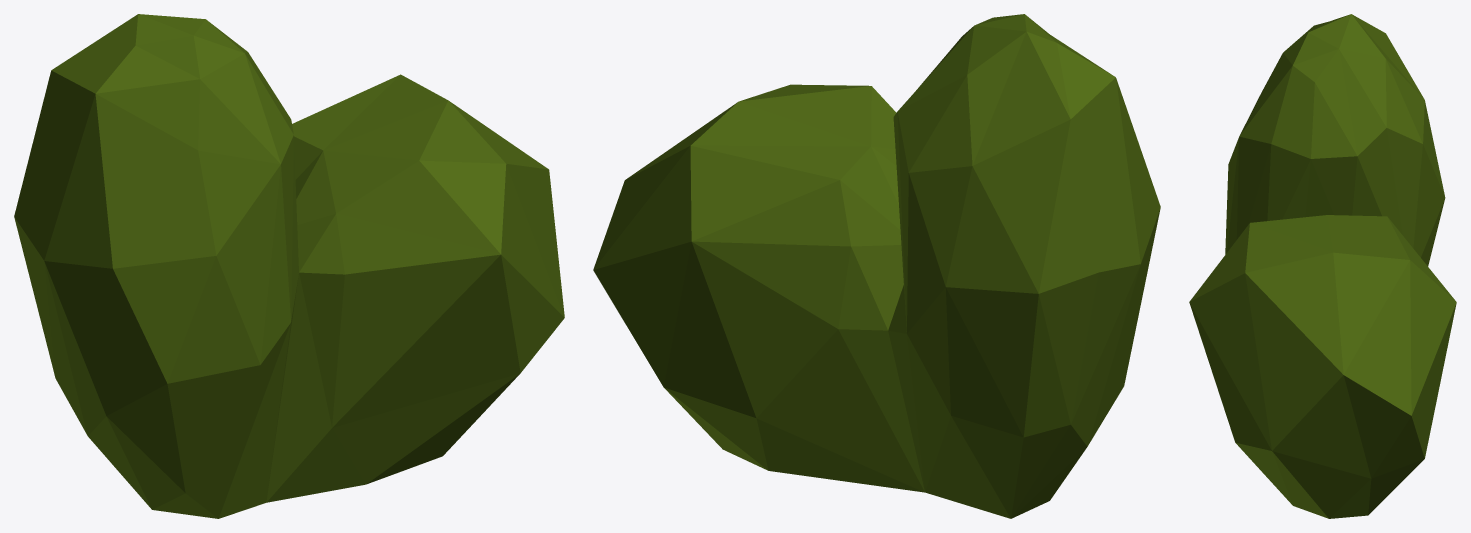
The model's file is TreesAndBushes_001.fbx.
The picture shows the model from 3 angles, left to right: view 1: azimuth 30°, elevation 25°; view 2: azimuth 150°, elevation 25°; view 3: azimuth 270°, elevation 25°; orthographic projection. The views are drawn at different scales.
Visible parts, largest first — view 1: TreesAndBushes_001; view 2: TreesAndBushes_001; view 3: TreesAndBushes_001.
Boxes of the visible parts, x1,y1,x2,y2 form: TreesAndBushes_001: [14, 14, 564, 518]; TreesAndBushes_001: [593, 14, 1160, 518]; TreesAndBushes_001: [1189, 14, 1456, 518].
Size of the model in its own units: 56.06 by 50.53 by 31.68.
